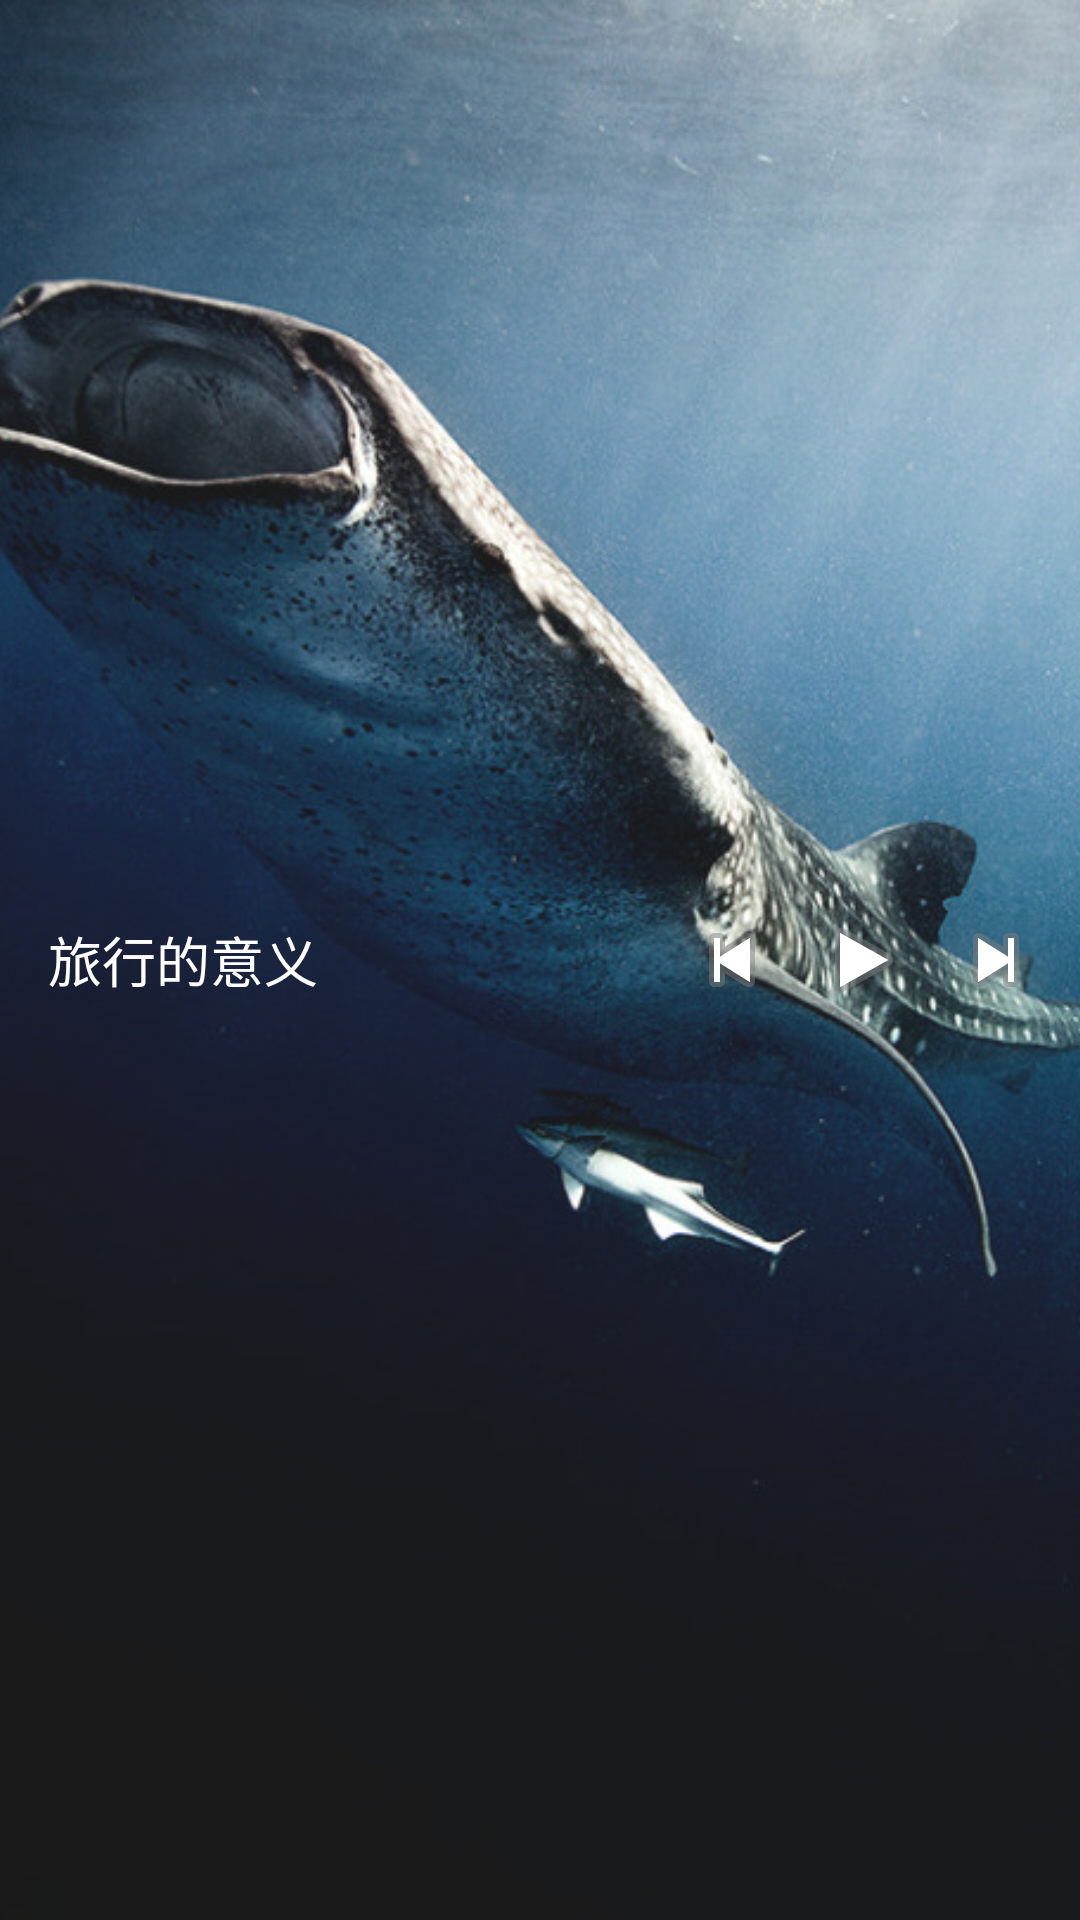

Screen size 1080w x 1920h. Icon name, then its center in pixels as (x,y):
play: (864,960)
